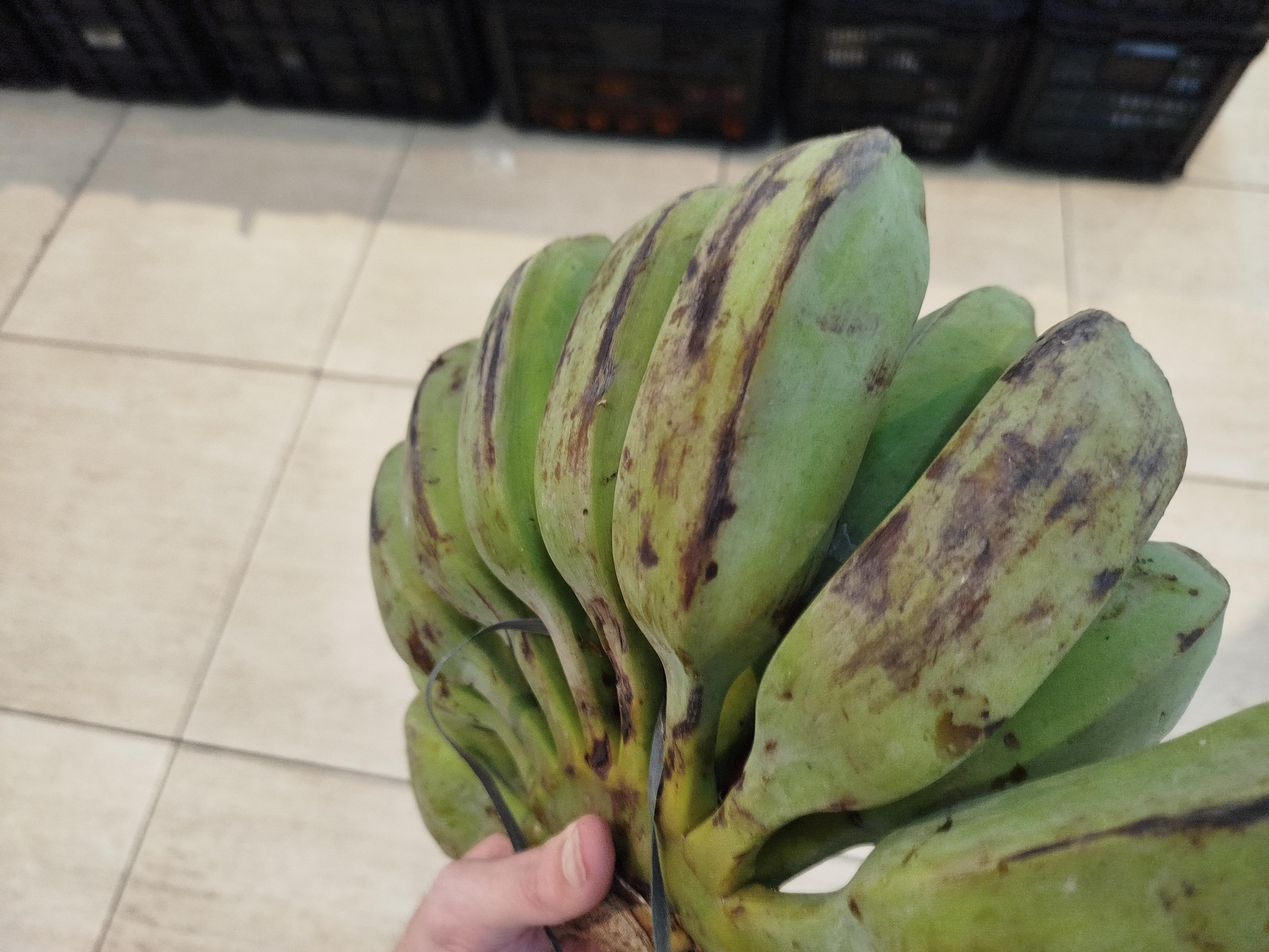underripe: (371, 128, 1269, 949)
